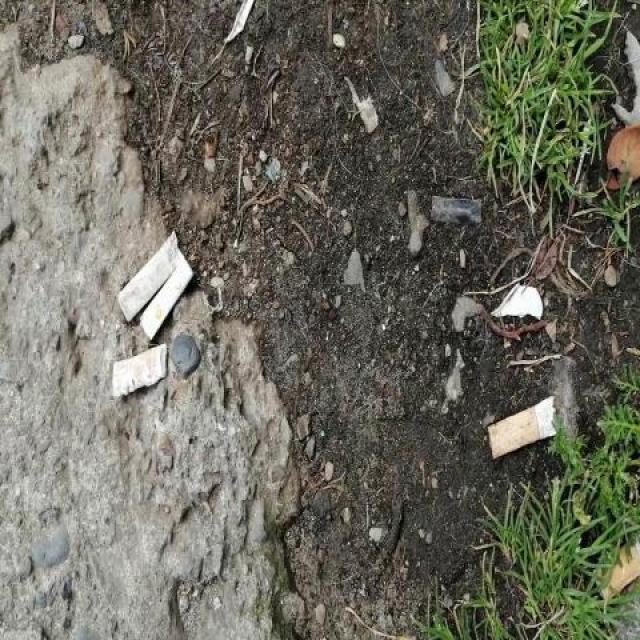non-organic waste: (116, 223, 180, 326), (483, 391, 558, 464), (140, 252, 196, 344), (110, 340, 173, 400)
